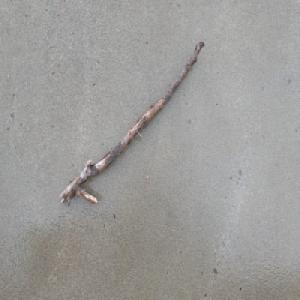Wood: (58, 38, 207, 205)
